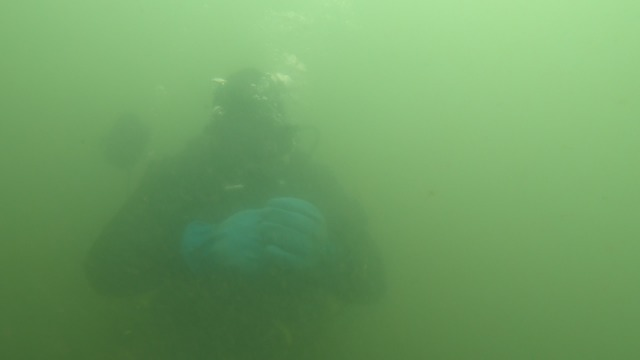Diver: (79, 72, 385, 351)
Hand: (184, 209, 277, 279), (262, 190, 328, 285)
Head: (208, 72, 301, 191)
